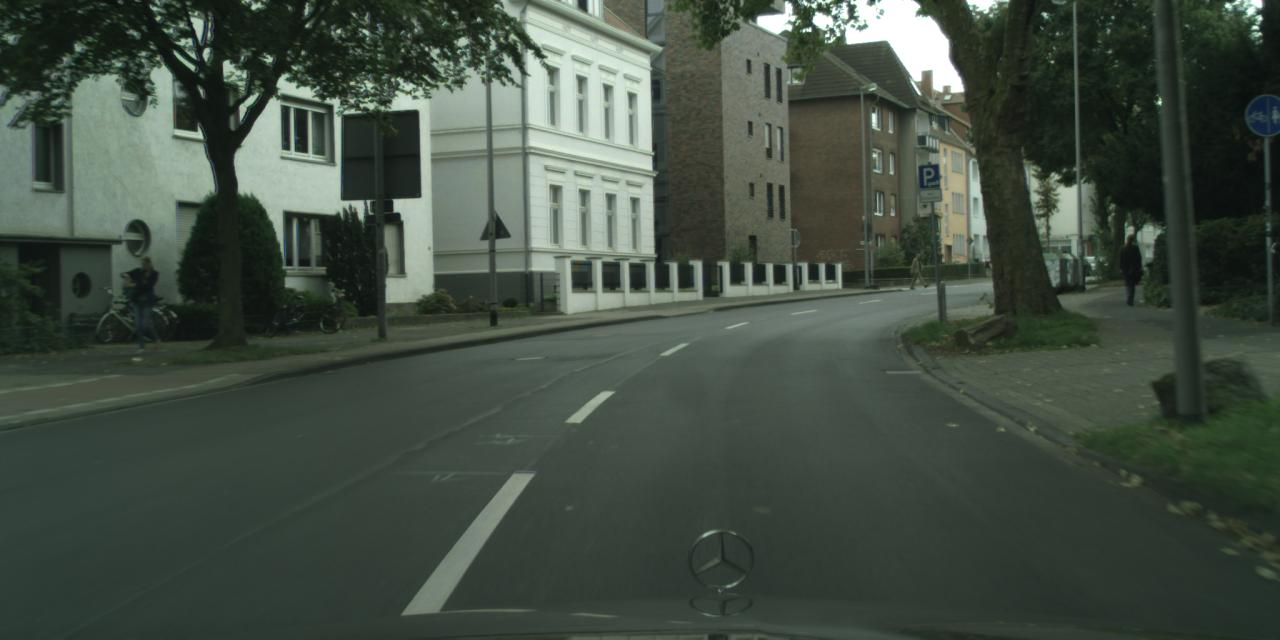ped: (128, 256, 166, 350), (1116, 234, 1144, 304), (911, 252, 925, 288)
